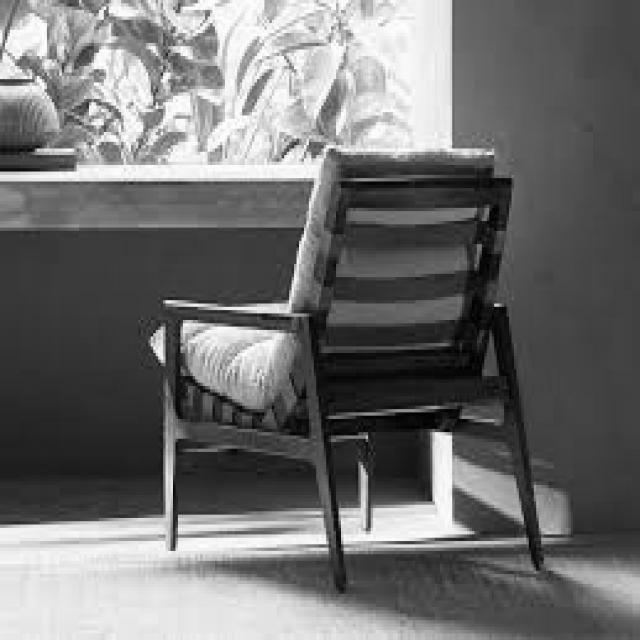chair: (142, 145, 549, 591)
